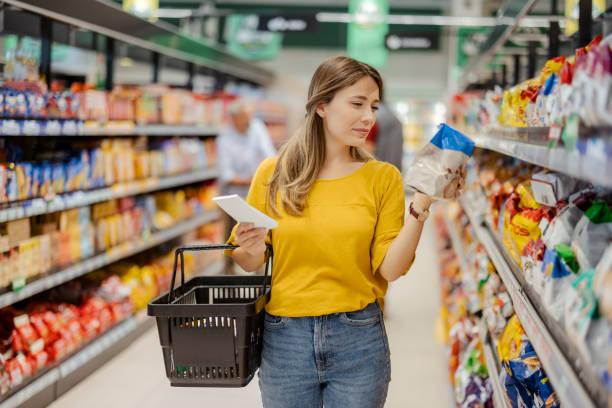Person: (226, 57, 434, 406)
article: (406, 124, 474, 199), (53, 164, 64, 193)
cage: (148, 245, 271, 385)
